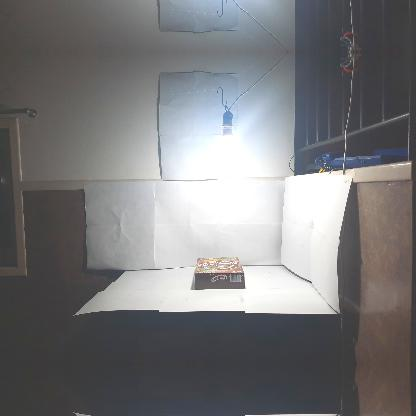Koko-Krunch: (194, 256, 244, 290)
